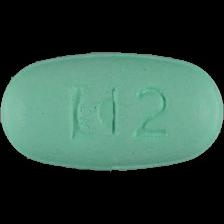63459-412: (0, 0, 224, 224)
